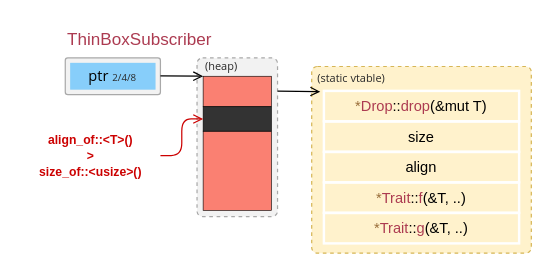
The diagram is 553 pixels wide and 275 high, and some of its shapes have lost their labels. Each missing label, with the box of its shape:
vptr: (202, 75, 271, 107)
← T →: (202, 130, 271, 210)
